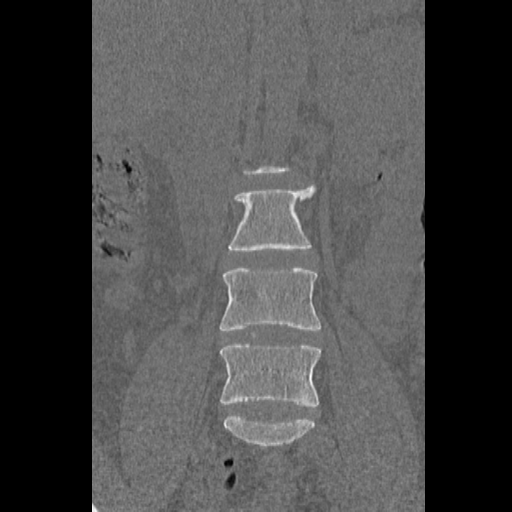bone: (217, 341, 321, 406), (217, 267, 322, 331), (225, 184, 315, 251), (224, 418, 316, 446), (245, 164, 290, 176), (93, 501, 96, 512)
